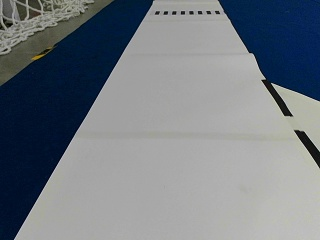crosswalk: (155, 9, 218, 15)
